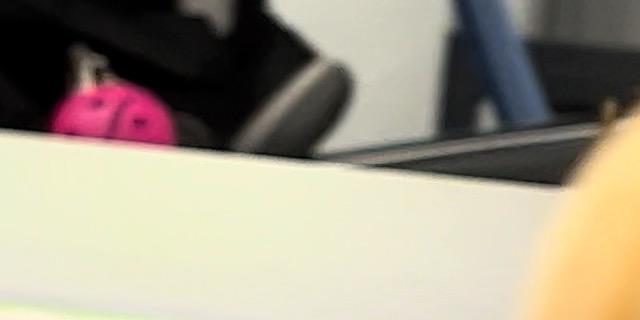burger: (442, 0, 640, 320)
